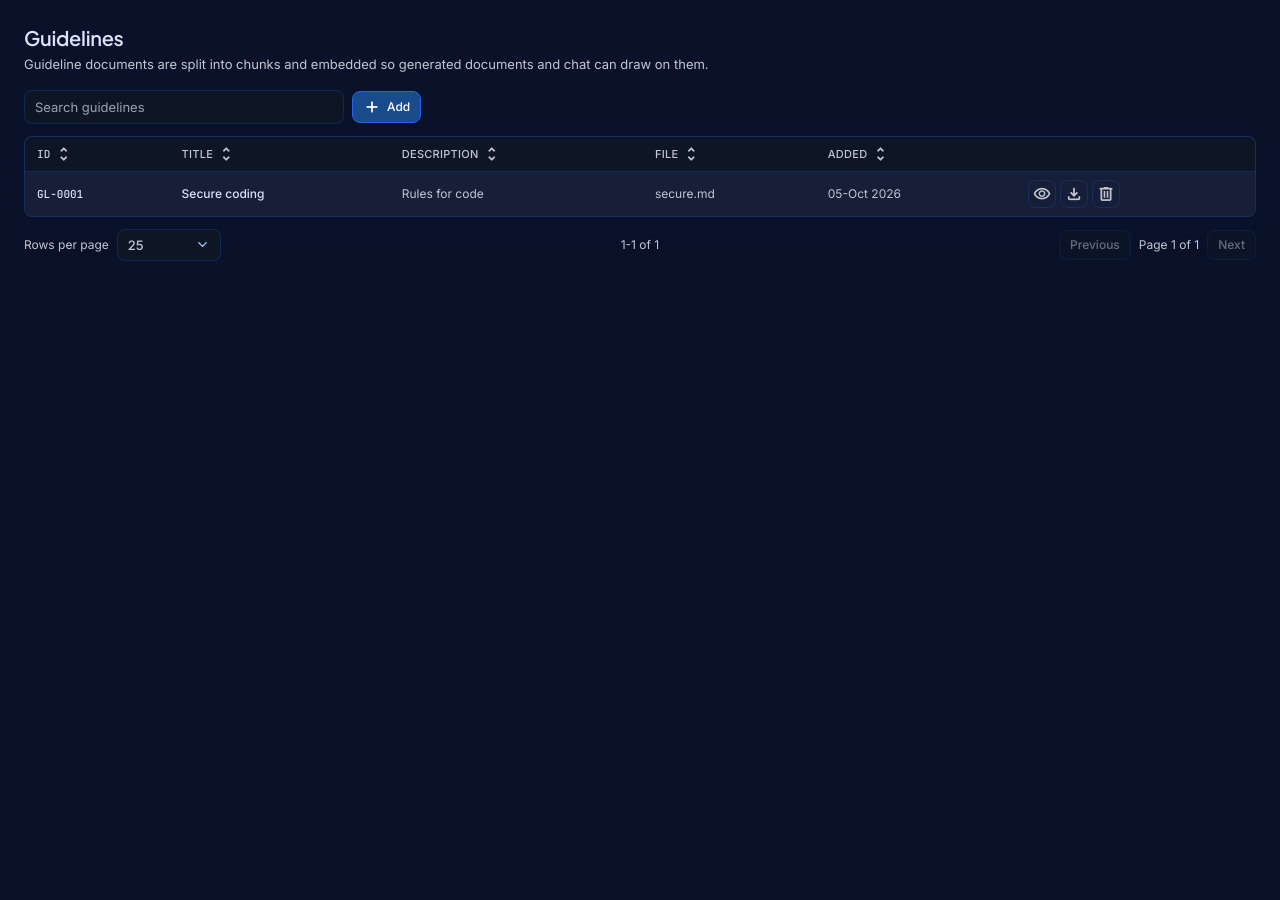
deleting asks for confirmation then removes the row
The image size is (1280, 900).
Expected: the text "Secure coding" is shown, [170, 172, 390, 216]
Click the button named "Delete Secure coding".
click(1106, 194)  # box [1092, 180, 1120, 208]
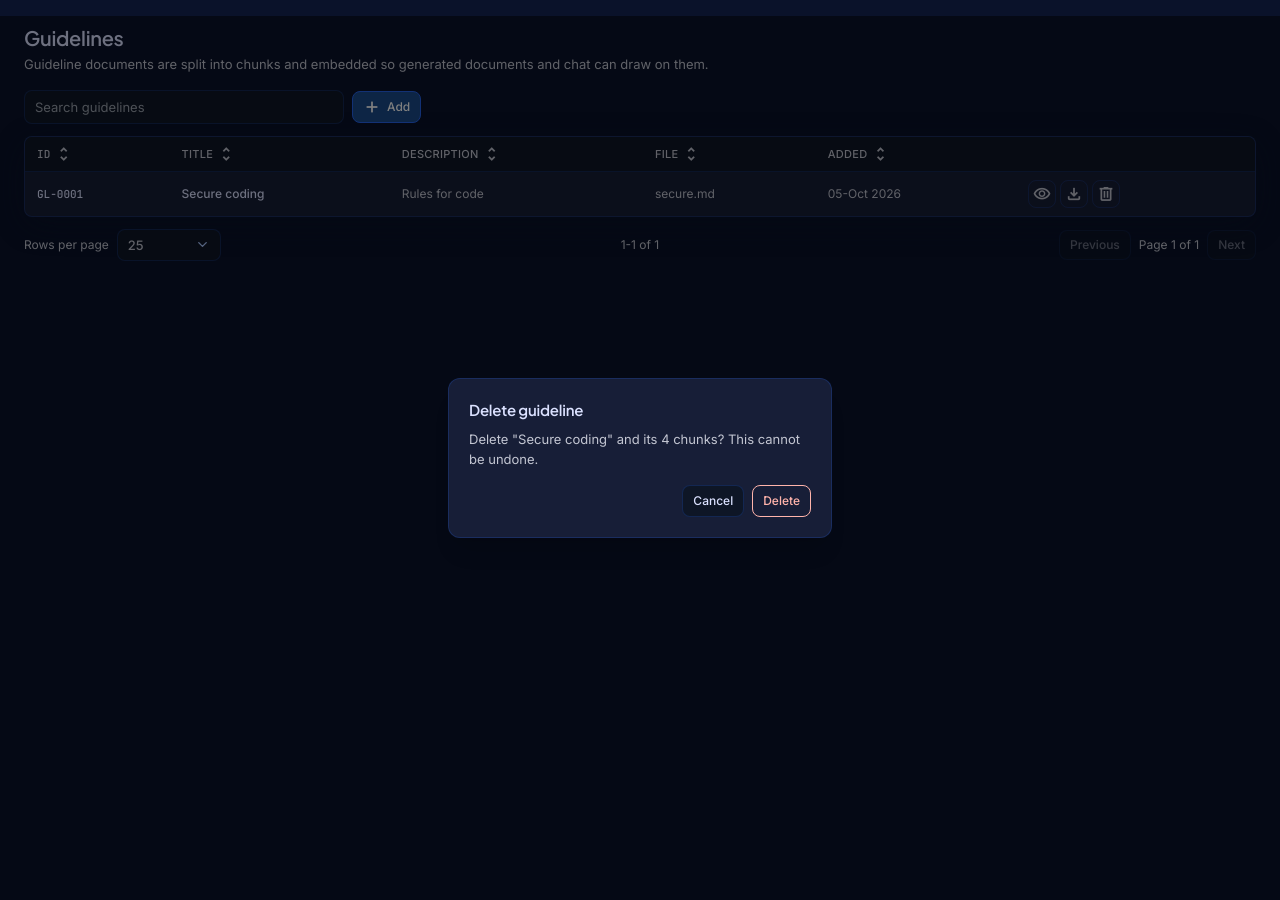
Click the button "Delete".
click(782, 501)  # box [752, 485, 811, 517]
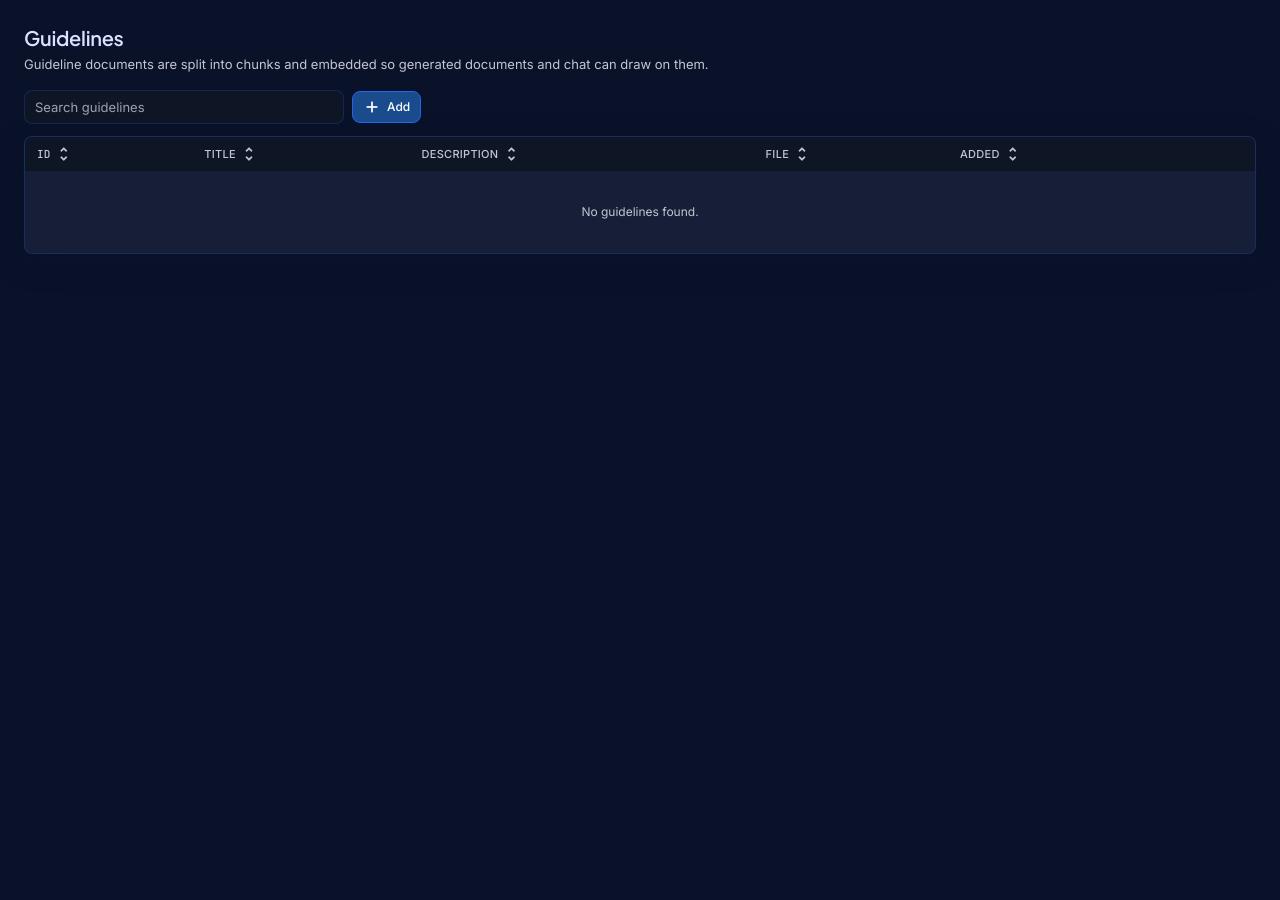
Expected: the text "Secure coding" is gone
